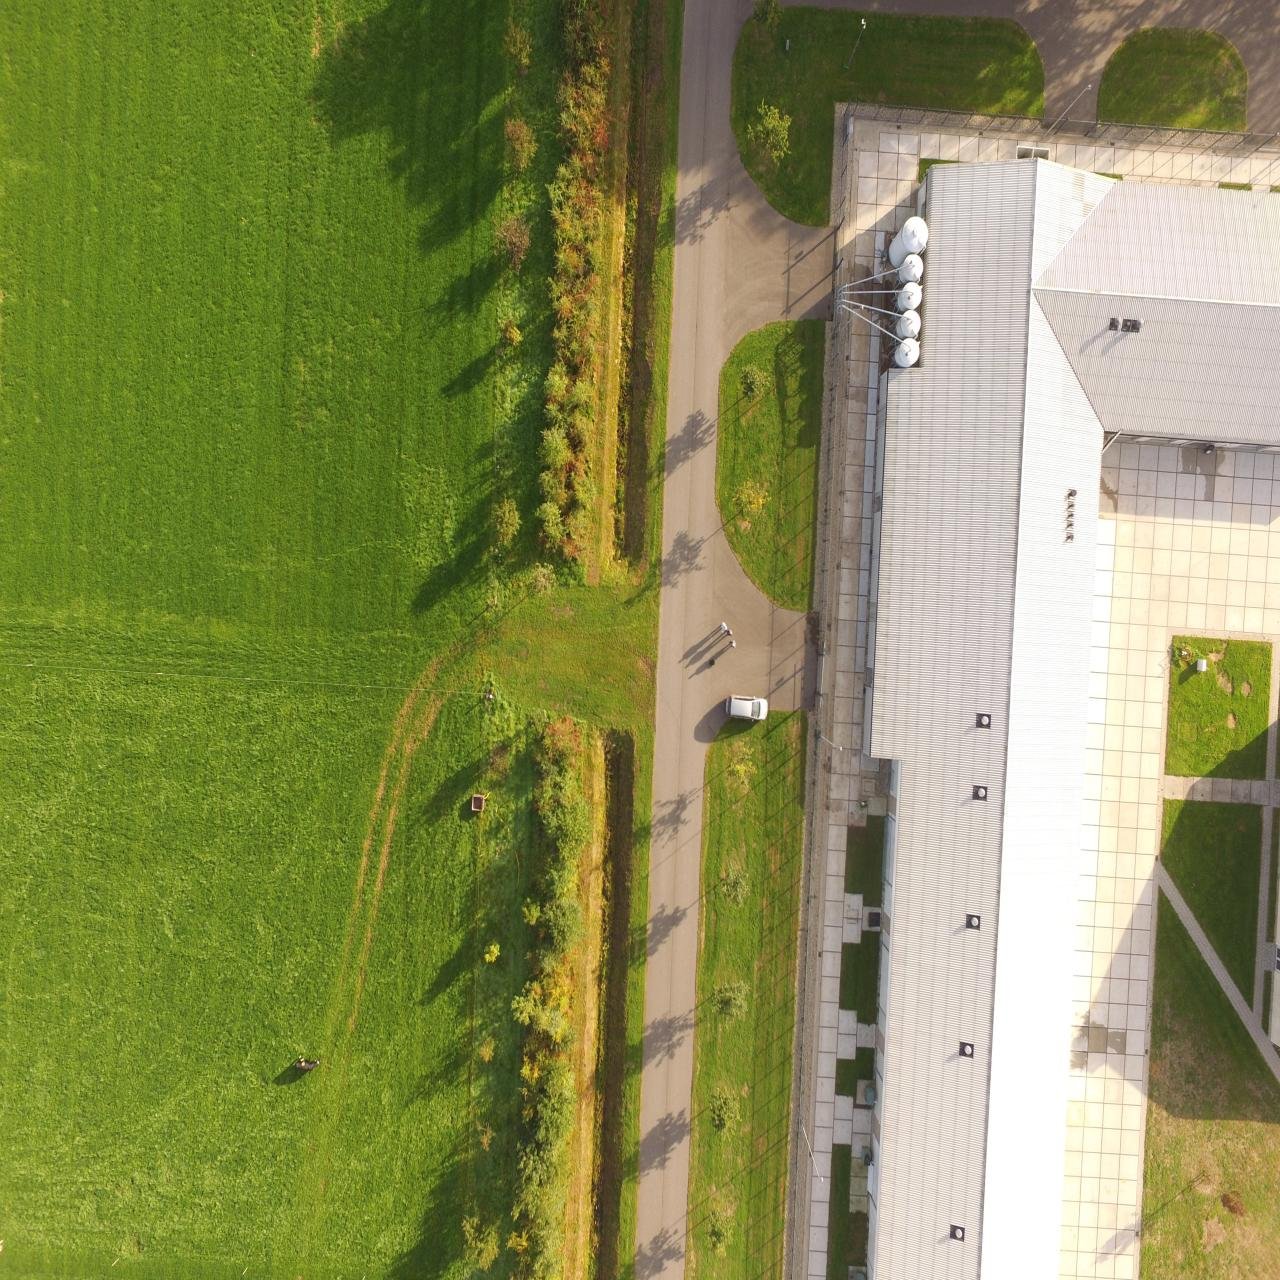cow: (294, 1055, 324, 1070)
